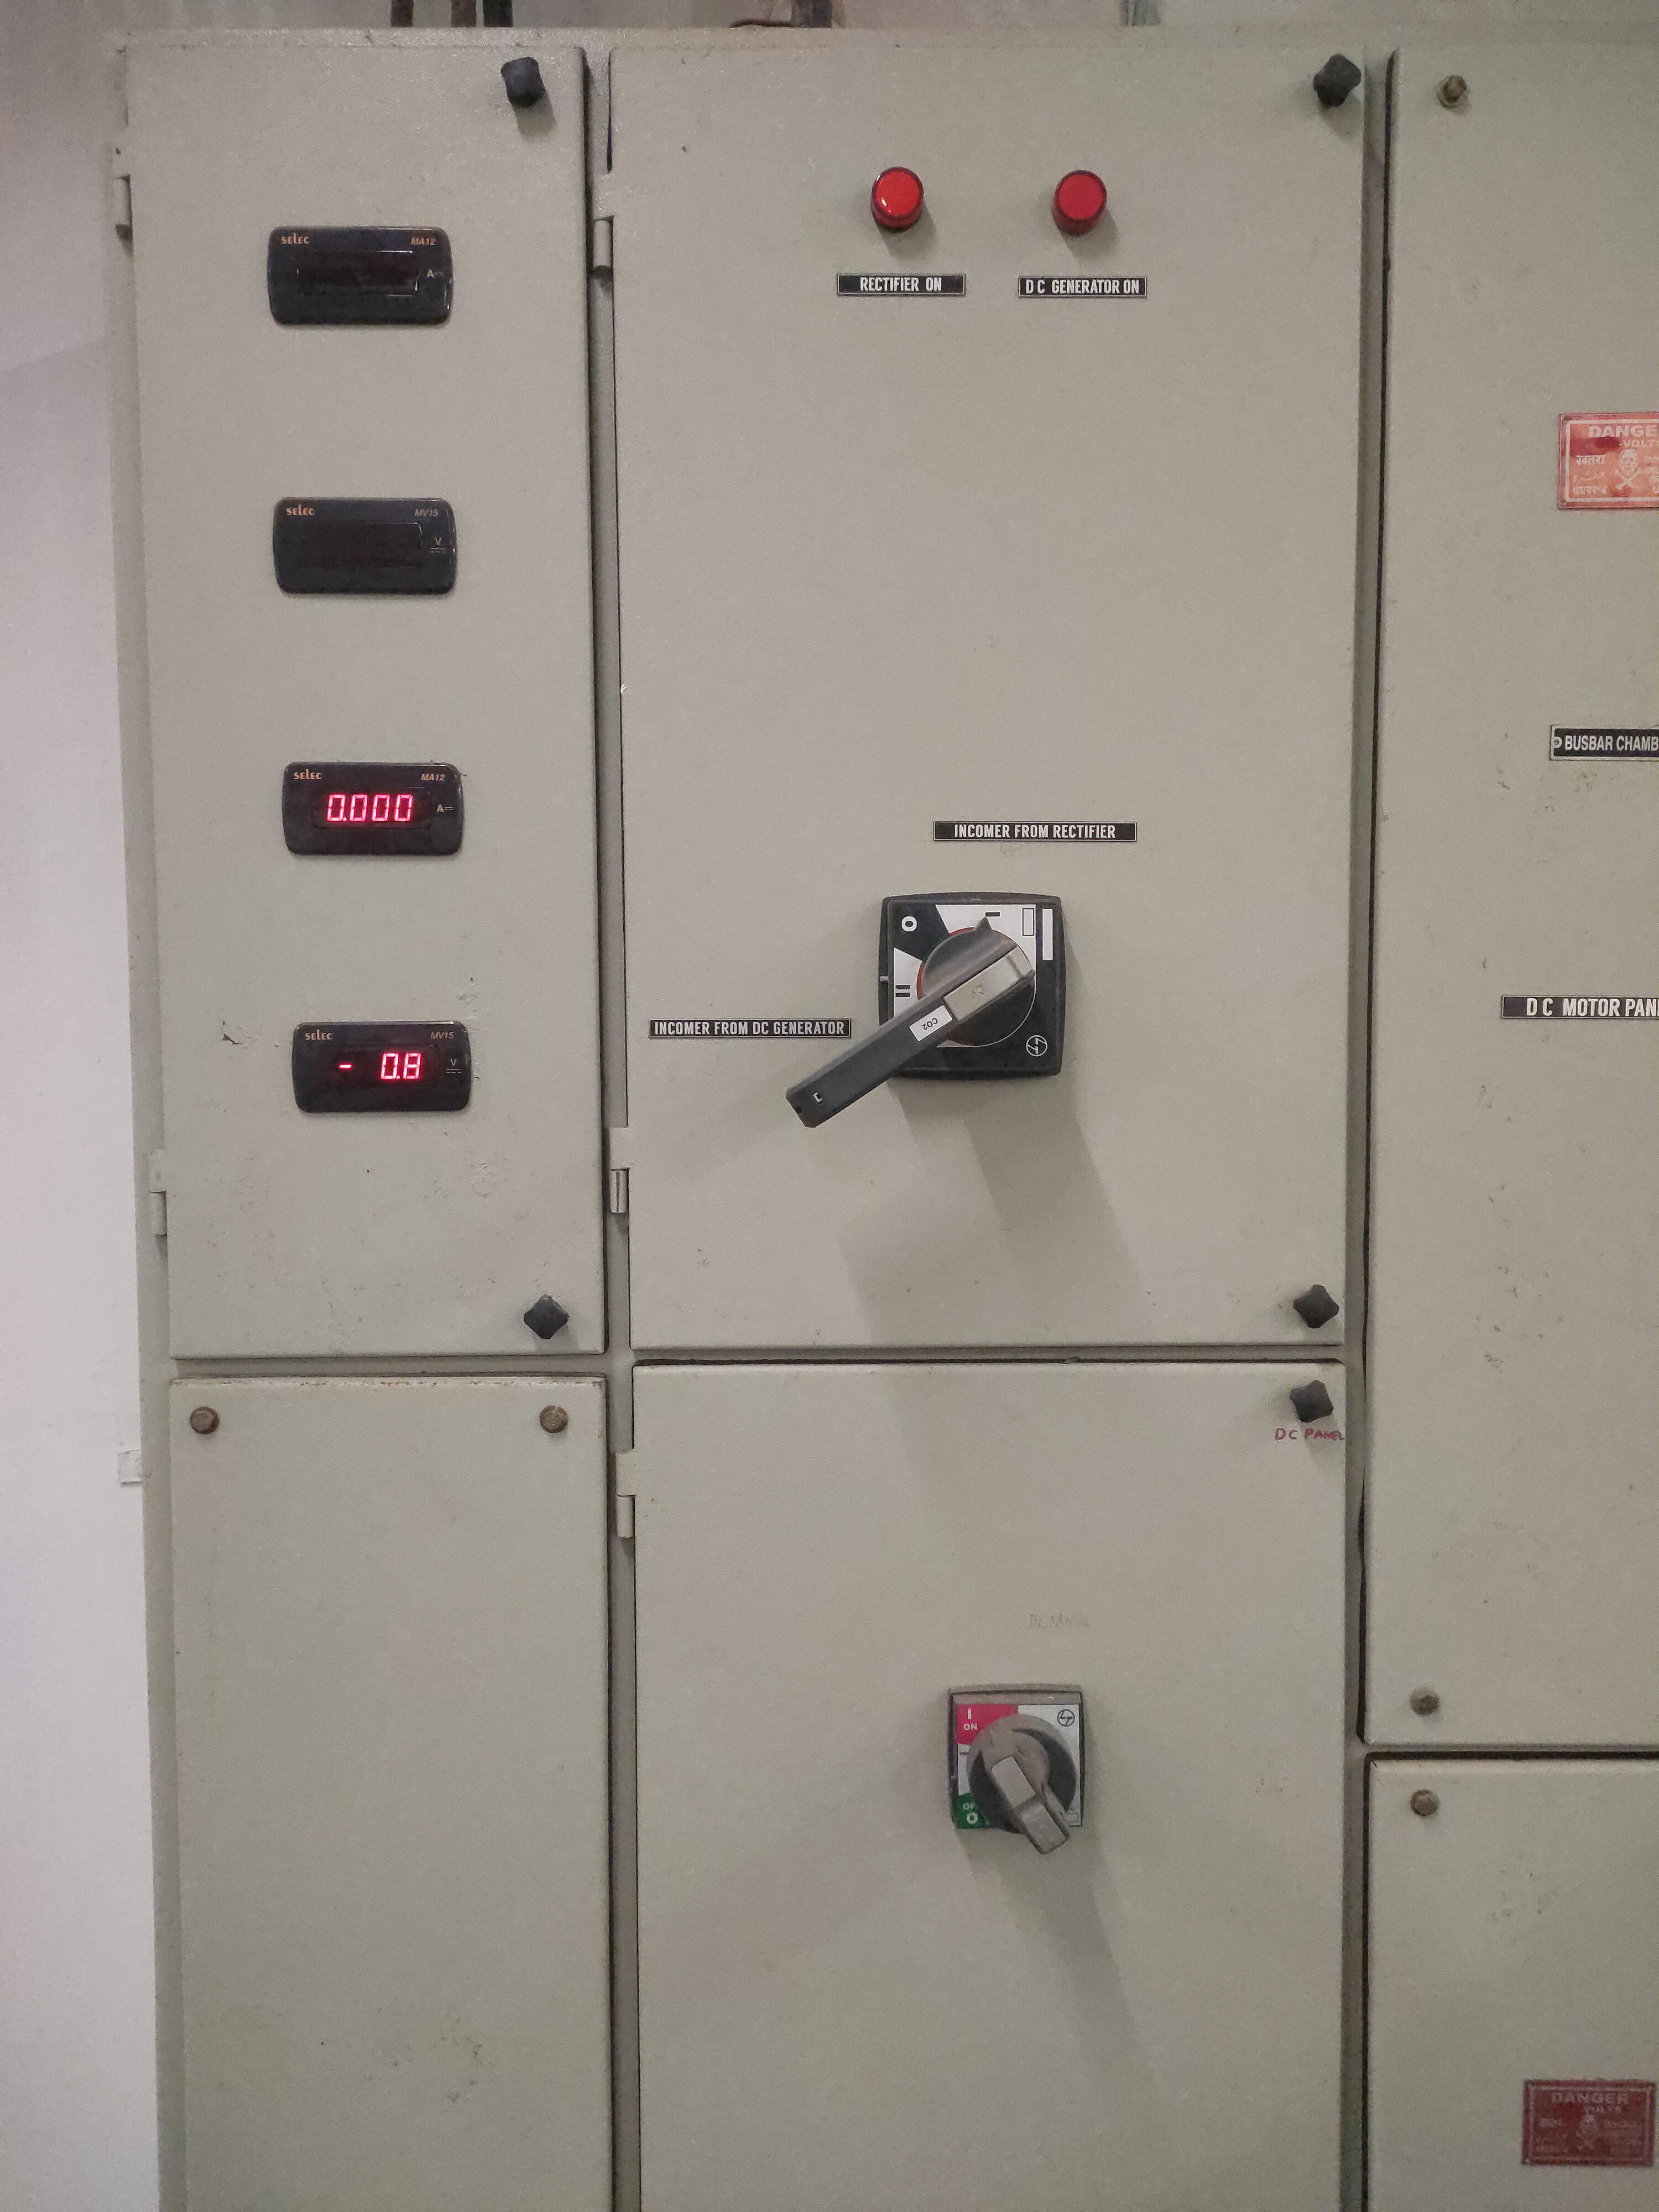Knob 1: (767, 864, 1112, 1146)
Knob 2: (917, 1662, 1115, 1881)
Light Indications: (821, 127, 1173, 343)
